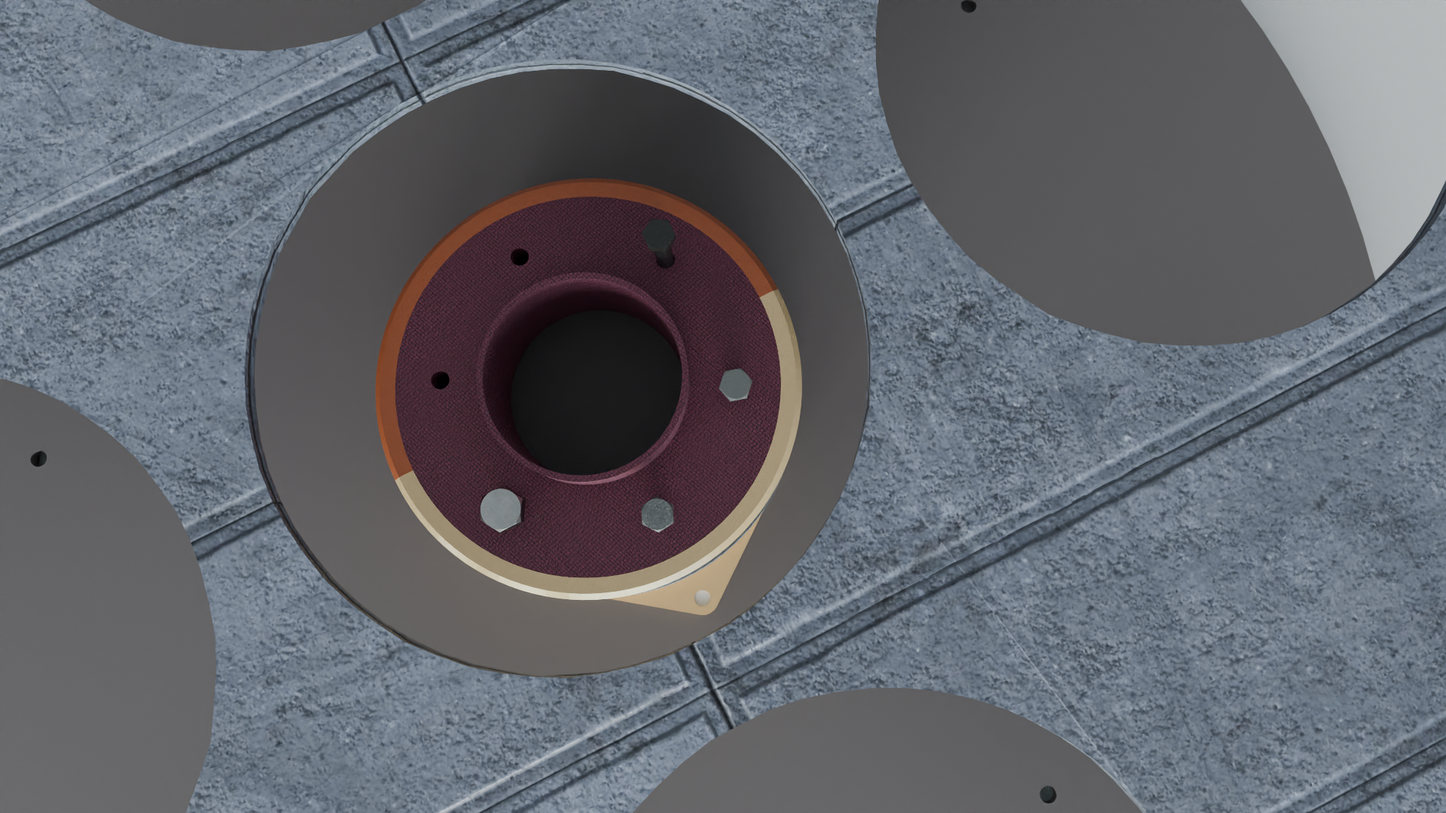bolt: (480, 486, 523, 532), (642, 496, 673, 532), (719, 368, 752, 400), (642, 219, 676, 249)
